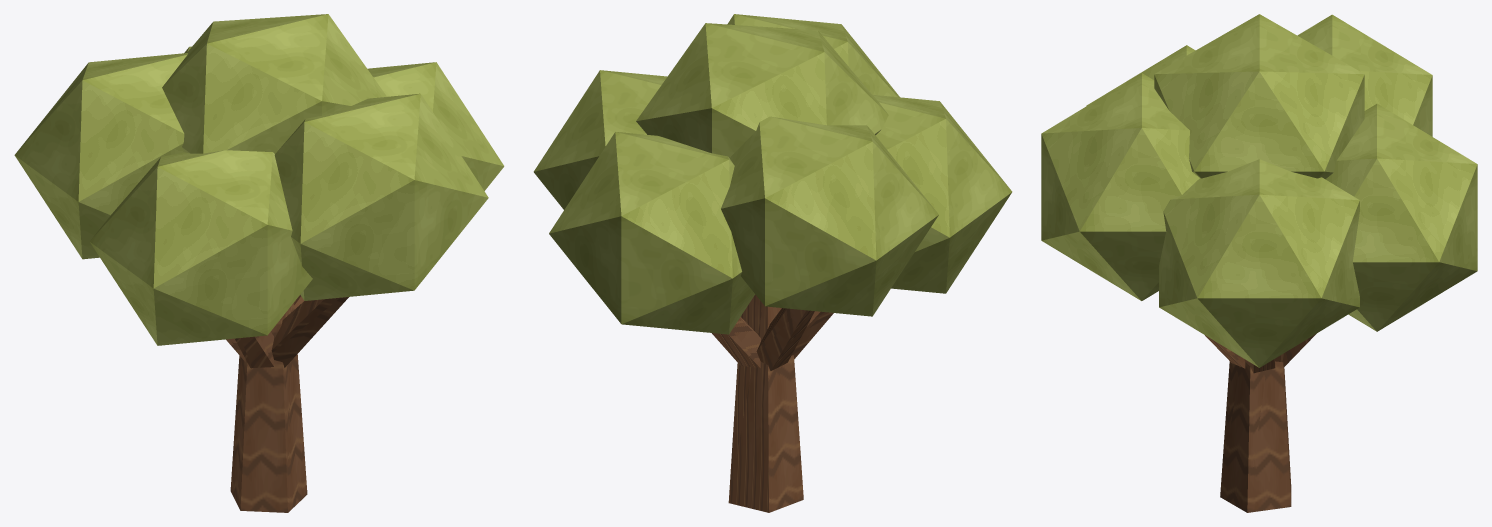
File: arvore-carvalho-v03.gltf
3 renders of one model, left to right at view 1: azimuth 30°, elevation 25°; view 2: azimuth 150°, elevation 25°; view 3: azimuth 270°, elevation 25°, orthographic. The views are drawn at different scales.
Parts seen in each view (by area): view 1: tronco-galhos-copa; view 2: tronco-galhos-copa; view 3: tronco-galhos-copa.
Boxes of the visible parts, x1,y1,x2,y2 form: tronco-galhos-copa: [14, 14, 504, 512]; tronco-galhos-copa: [533, 14, 1012, 512]; tronco-galhos-copa: [1041, 14, 1477, 512].
Size of the model in its own units: 3.86 by 4.46 by 3.88.
Materials: 1 (1 with a texture image).
